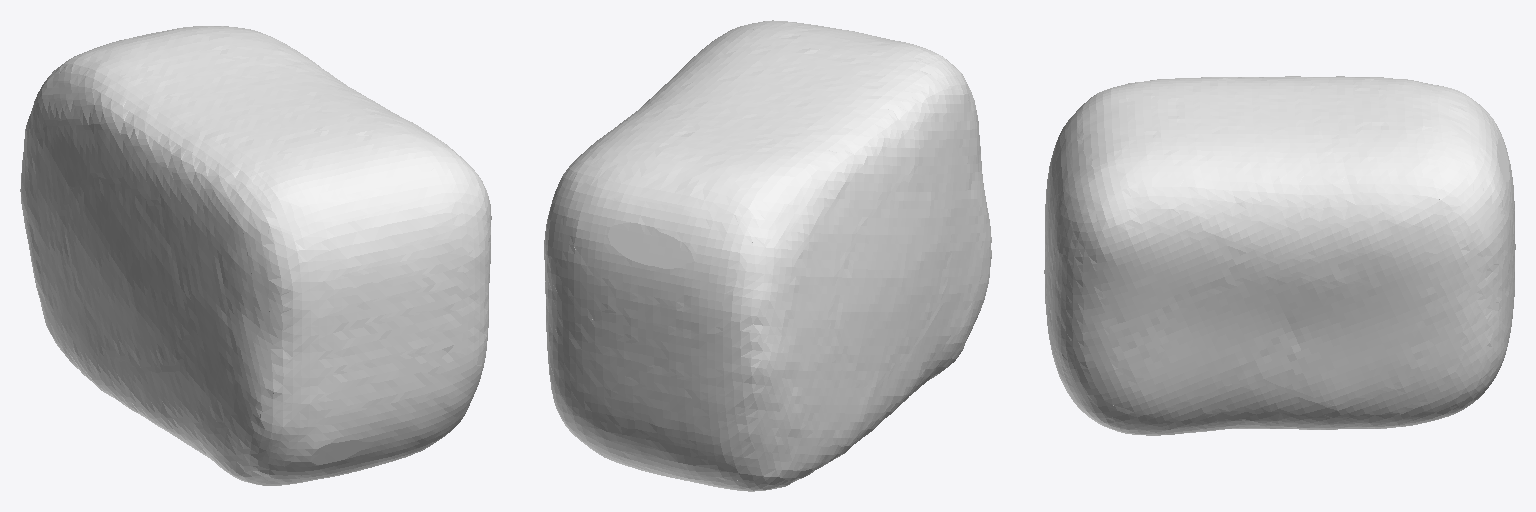
robot.urdf — mesh_target_ghost:
<?xml version="1.0"?>
<robot name="mesh_target_ghost">
  <link name="base">
    <visual>
      <origin xyz="0 0 0" rpy="0 0 0"/>
      <geometry>
        <mesh filename="obj_mesh_visual.stl" scale="1 1 1"/>
      </geometry>
      <material name="ghost_color">
        <color rgba="0.95 0.95 0.95 0.35"/>
      </material>
    </visual>
  </link>
</robot>

--- Facts derived from the render (not from the file) ---
3 views of the same robot in one strip: view 1: azimuth 30°, elevation 25°; view 2: azimuth 150°, elevation 25°; view 3: azimuth 270°, elevation 25° (orthographic).
Model mesh_target_ghost with 1 links and 0 joints (none), rooted at base, posed every joint at zero.
Visible links, largest first — view 1: base; view 2: base; view 3: base.
Boxes of the visible links, x1,y1,x2,y2 form: base: (20,26,491,485); base: (544,20,991,491); base: (1044,76,1515,435).
Bounding box of the posed robot: 0.0466 × 0.0753 × 0.0516 m (x, y, z).
Meshes: 1 distinct files referenced, 1 mesh visuals loaded (1 binary STL).
